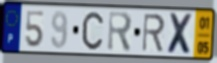5: (23, 9, 45, 48)
9: (50, 9, 70, 50)
C: (81, 11, 105, 52)
R: (106, 10, 134, 54), (141, 12, 166, 53)
X: (166, 11, 195, 57)
